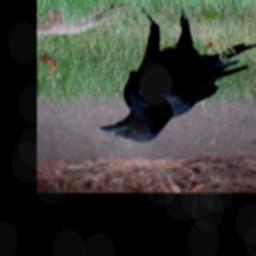Crow: (97, 4, 256, 143)
